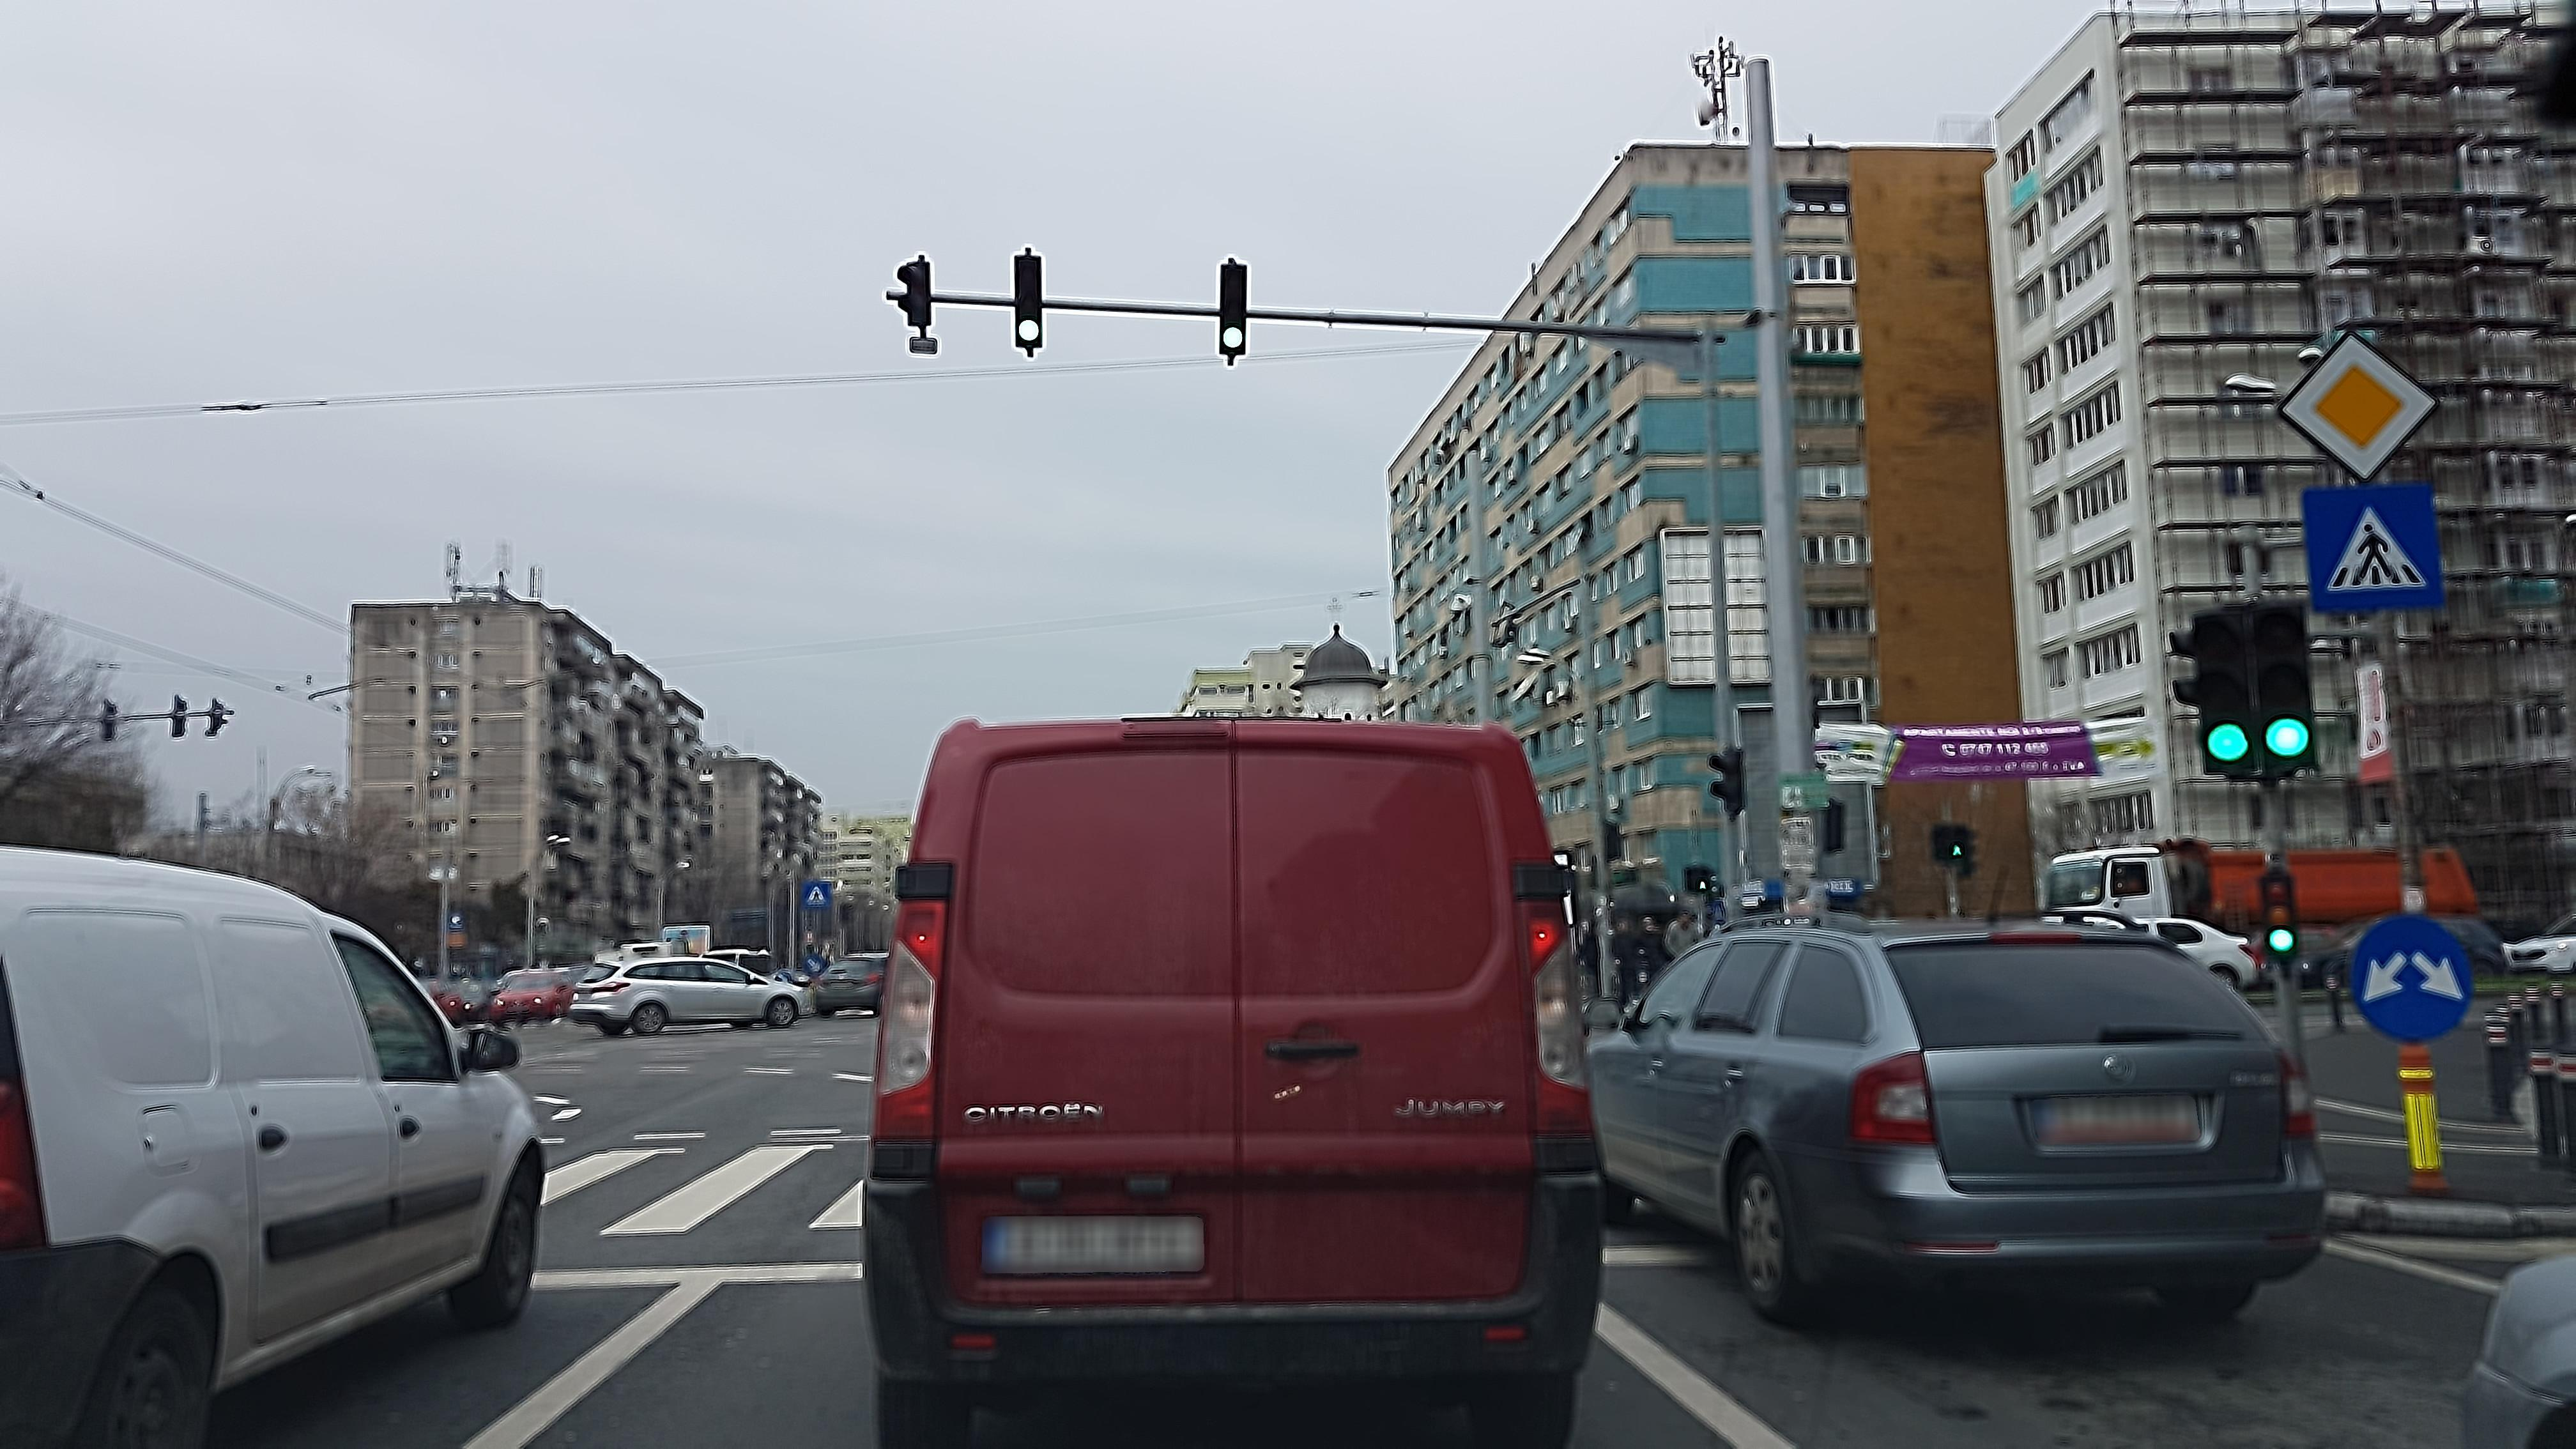vinyl banner: (1785, 694, 2196, 796)
